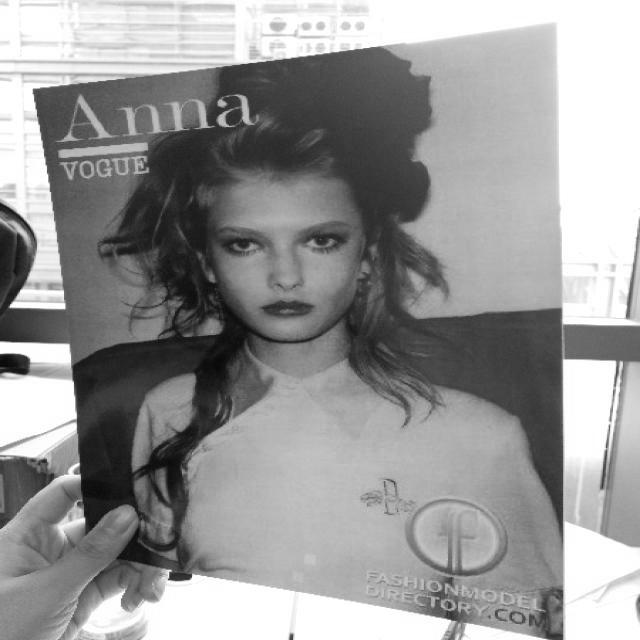fake: (34, 18, 596, 640)
